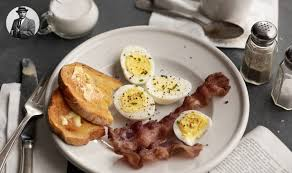egg: (147, 68, 195, 102), (120, 43, 158, 84), (115, 82, 153, 123), (173, 102, 211, 143)
